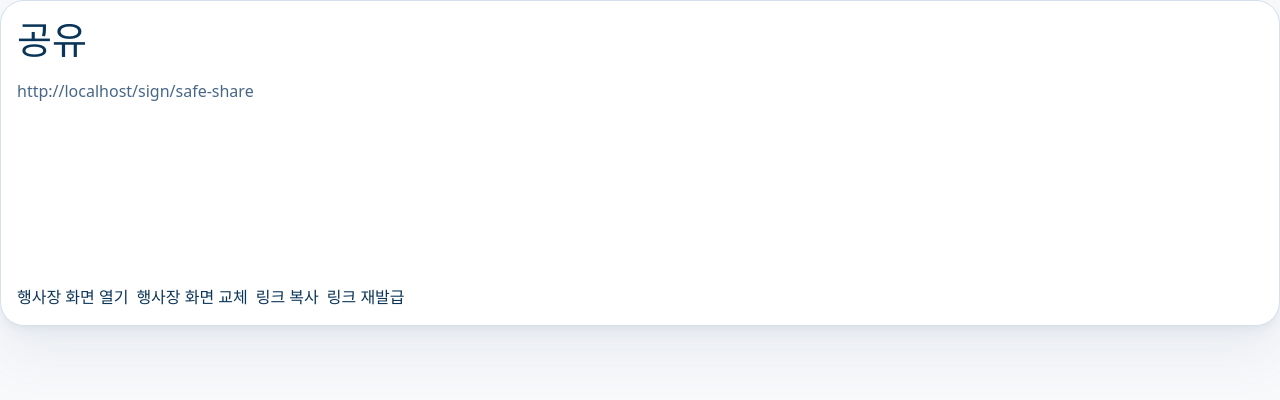
it: SharePanel › Given clipboard rejection When copy is activated Then a visible generic failure is shown
This screenshot has width=1280, height=400.
Step 1. Click the button "링크 복사" → (287, 297), box [256,285,319,309]
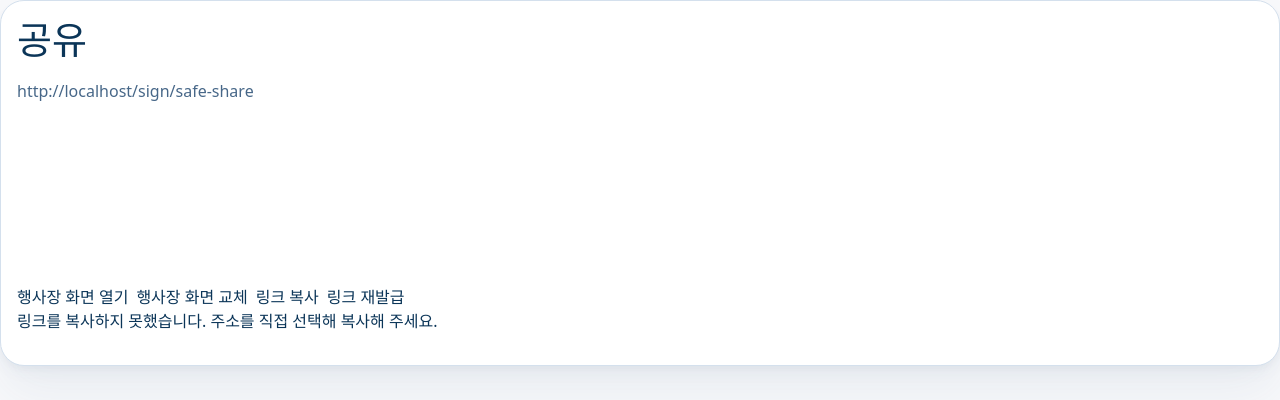
Now the message shows "링크를 복사하지 못했습니다", box [17,310,437,332]
